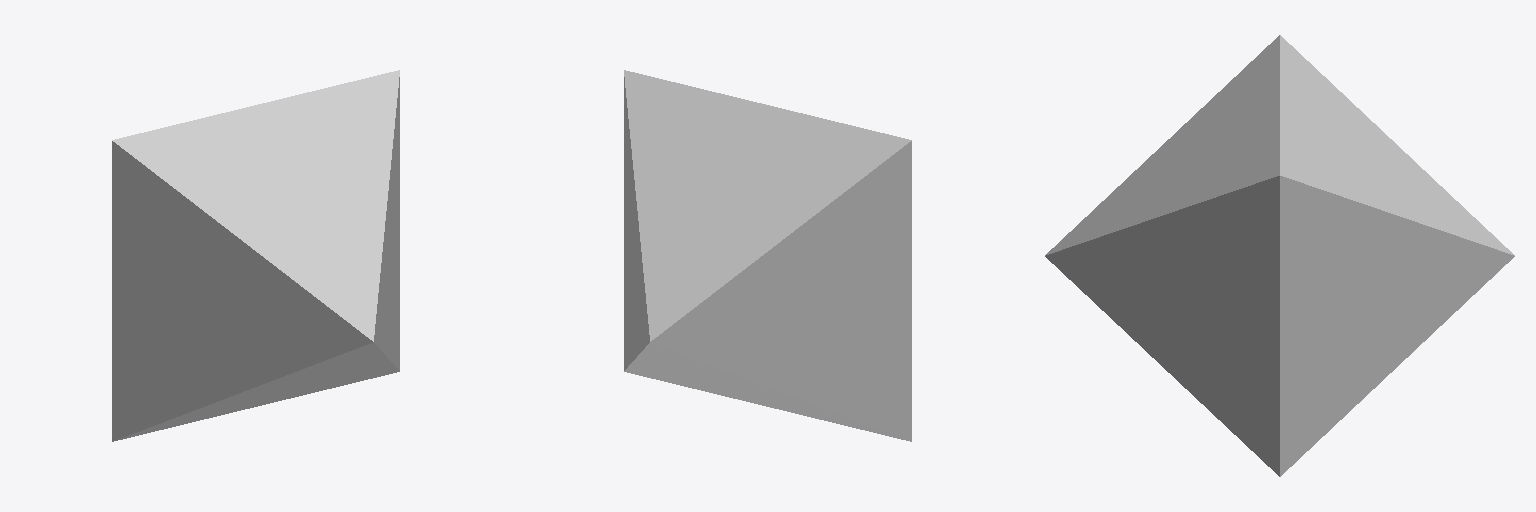
The model's file is Octahedron.obj.
3 renders of one model, left to right at view 1: azimuth 30°, elevation 25°; view 2: azimuth 150°, elevation 25°; view 3: azimuth 270°, elevation 25°, orthographic.
Visible parts, largest first — view 1: Object.1; view 2: Object.1; view 3: Object.1.
Part boxes in pixels (left/top/right/bottom): Object.1: left=112, top=70, right=399, bottom=441; Object.1: left=624, top=70, right=911, bottom=441; Object.1: left=1045, top=35, right=1514, bottom=476.
Size of the model in its own units: 50 by 50 by 70.71.